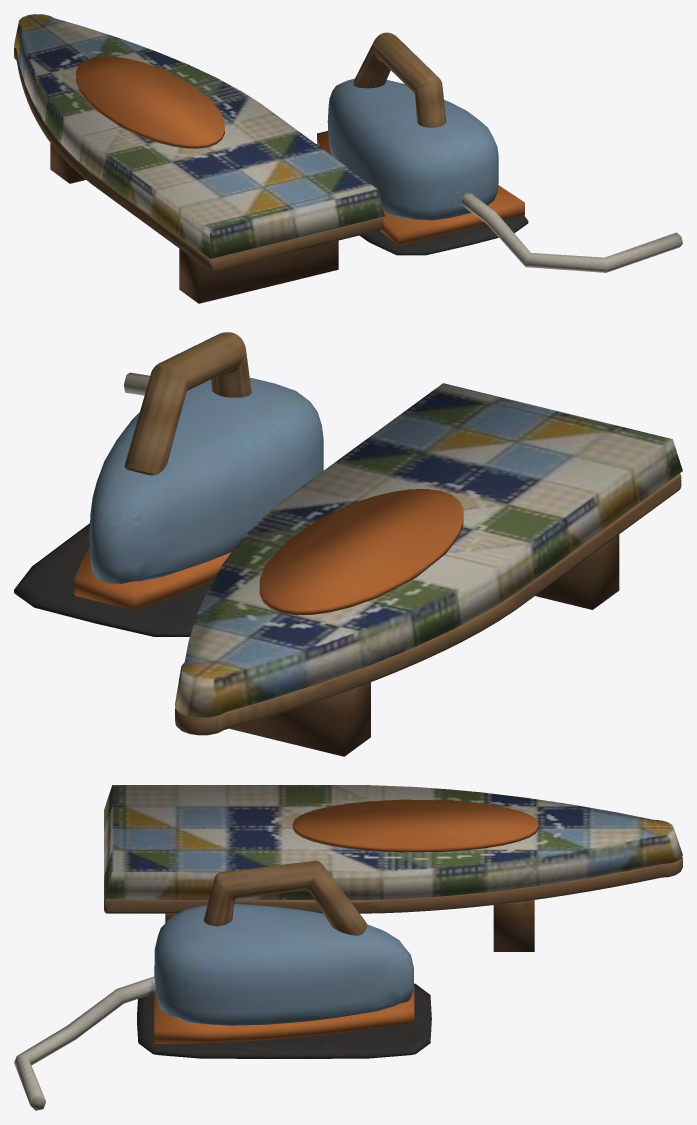
The model's file is press_board_cool.glb.
3 renders of one model, top to bottom at view 1: azimuth 30°, elevation 25°; view 2: azimuth 150°, elevation 25°; view 3: azimuth 270°, elevation 25°, orthographic. The views are drawn at different scales.
Visible parts, largest first — view 1: prop_press_board_cool_felt, prop_press_board_cool_wood, prop_press_board_cool_felt_heat; view 2: prop_press_board_cool_felt, prop_press_board_cool_wood, prop_press_board_cool_felt_heat; view 3: prop_press_board_cool_felt, prop_press_board_cool_felt_heat, prop_press_board_cool_wood.
Part boxes in pixels (left/top/right/bottom): prop_press_board_cool_felt: left=14, top=14, right=682, bottom=272; prop_press_board_cool_wood: left=14, top=32, right=446, bottom=303; prop_press_board_cool_felt_heat: left=76, top=56, right=524, bottom=245; prop_press_board_cool_felt: left=14, top=372, right=682, bottom=717; prop_press_board_cool_wood: left=124, top=332, right=681, bottom=756; prop_press_board_cool_felt_heat: left=74, top=489, right=463, bottom=615; prop_press_board_cool_felt: left=14, top=785, right=682, bottom=1110; prop_press_board_cool_felt_heat: left=154, top=799, right=538, bottom=1043; prop_press_board_cool_wood: left=104, top=857, right=682, bottom=951.
Bounding box in the file's own units: 0.6516 × 0.2222 × 0.8157.
3 materials, 3 textured.
